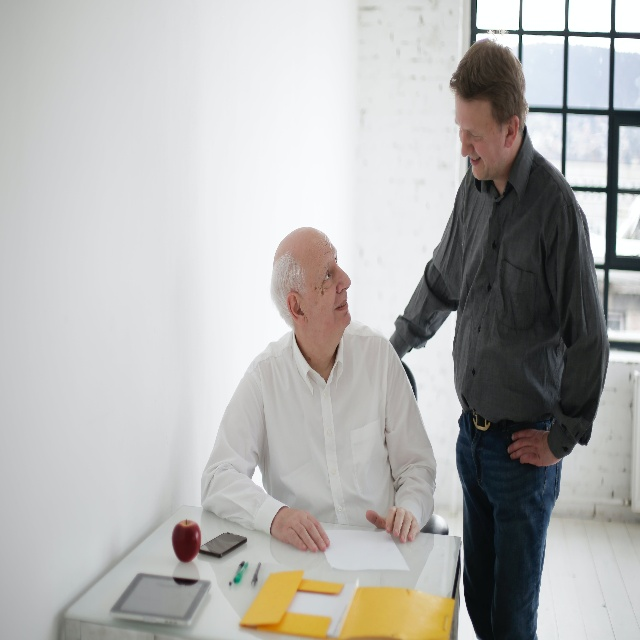Sin_guantes: (270, 506, 330, 553), (507, 428, 562, 467), (365, 505, 420, 543)
